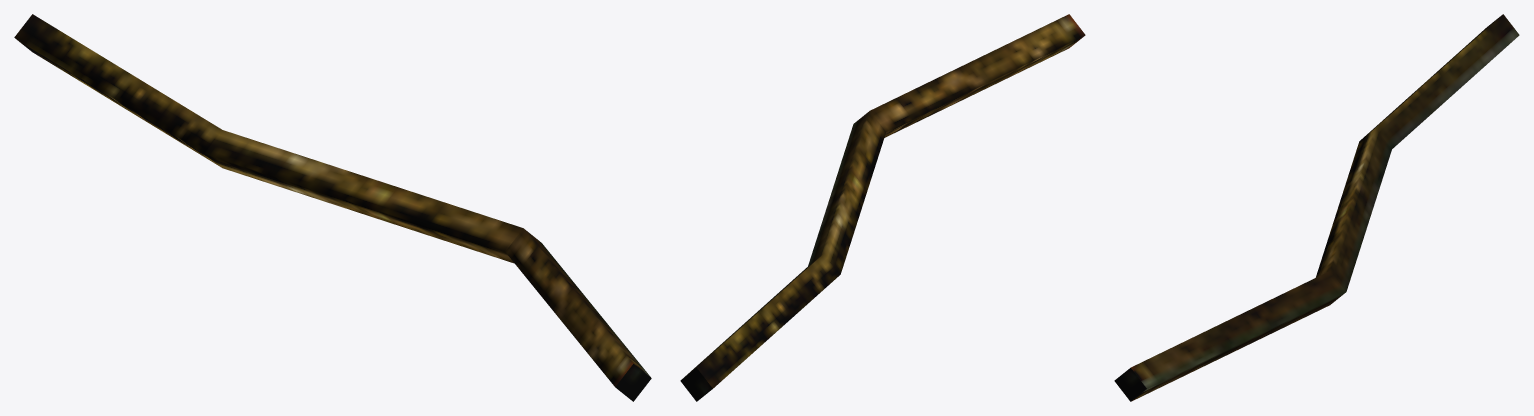
File: pipe2.fbx
3 views of the same model, side by side, from view 1: azimuth 30°, elevation 25°; view 2: azimuth 150°, elevation 25°; view 3: azimuth 330°, elevation 25° (orthographic). The views are drawn at different scales.
Parts seen in each view (by area): view 1: pipe50; view 2: pipe50; view 3: pipe50.
Boxes of the visible parts, left/top/right/bottom form: pipe50: left=14, top=14, right=651, bottom=401; pipe50: left=680, top=14, right=1085, bottom=401; pipe50: left=1114, top=14, right=1519, bottom=401.
Bounding box in the file's own units: 0.4194 × 0.0829 × 1.99.
Materials: 1 (1 with a texture image).
